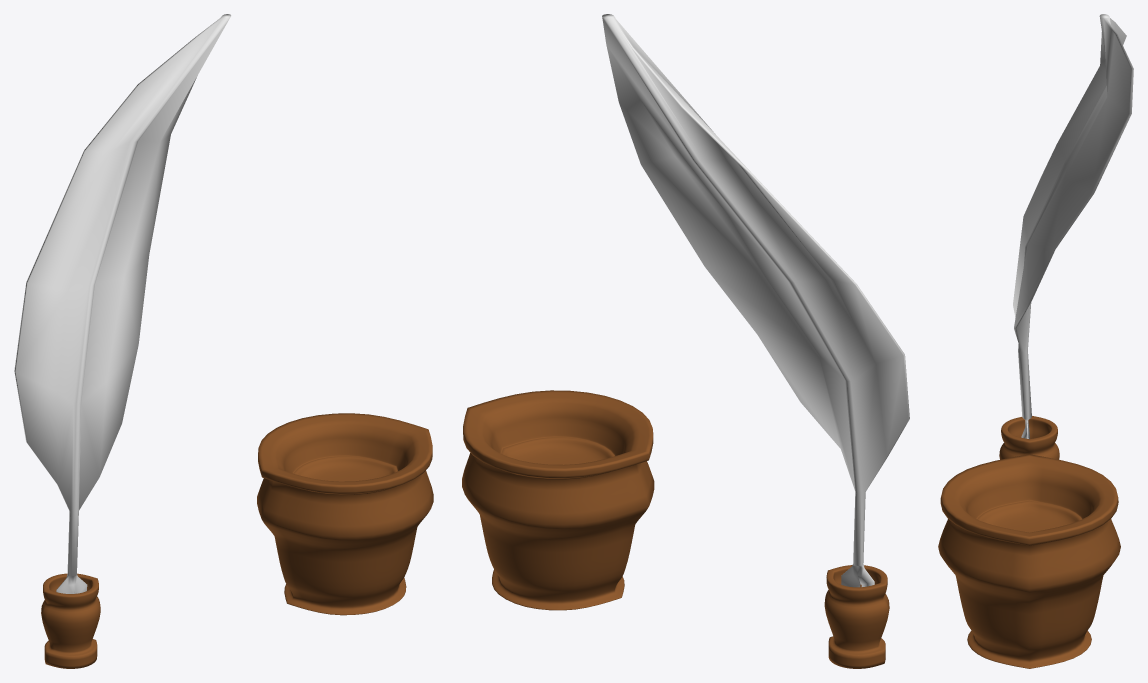
File: Lobby_Ink&Quill_NoAnim_v1.fbx
3 views of the same model, side by side, from view 1: azimuth 30°, elevation 25°; view 2: azimuth 150°, elevation 25°; view 3: azimuth 270°, elevation 25° (orthographic). The views are drawn at different scales.
Visible parts, largest first — view 1: Plane, Circle; view 2: Plane, Circle; view 3: Circle, Plane.
Part boxes in pixels (left/top/right/bottom): Plane: left=14, top=14, right=231, bottom=593; Circle: left=41, top=413, right=433, bottom=668; Plane: left=602, top=14, right=909, bottom=587; Circle: left=462, top=390, right=889, bottom=668; Circle: left=938, top=416, right=1120, bottom=668; Plane: left=1013, top=14, right=1133, bottom=439.
Bounding box in the file's own units: 66.15 × 26.78 × 88.14.
